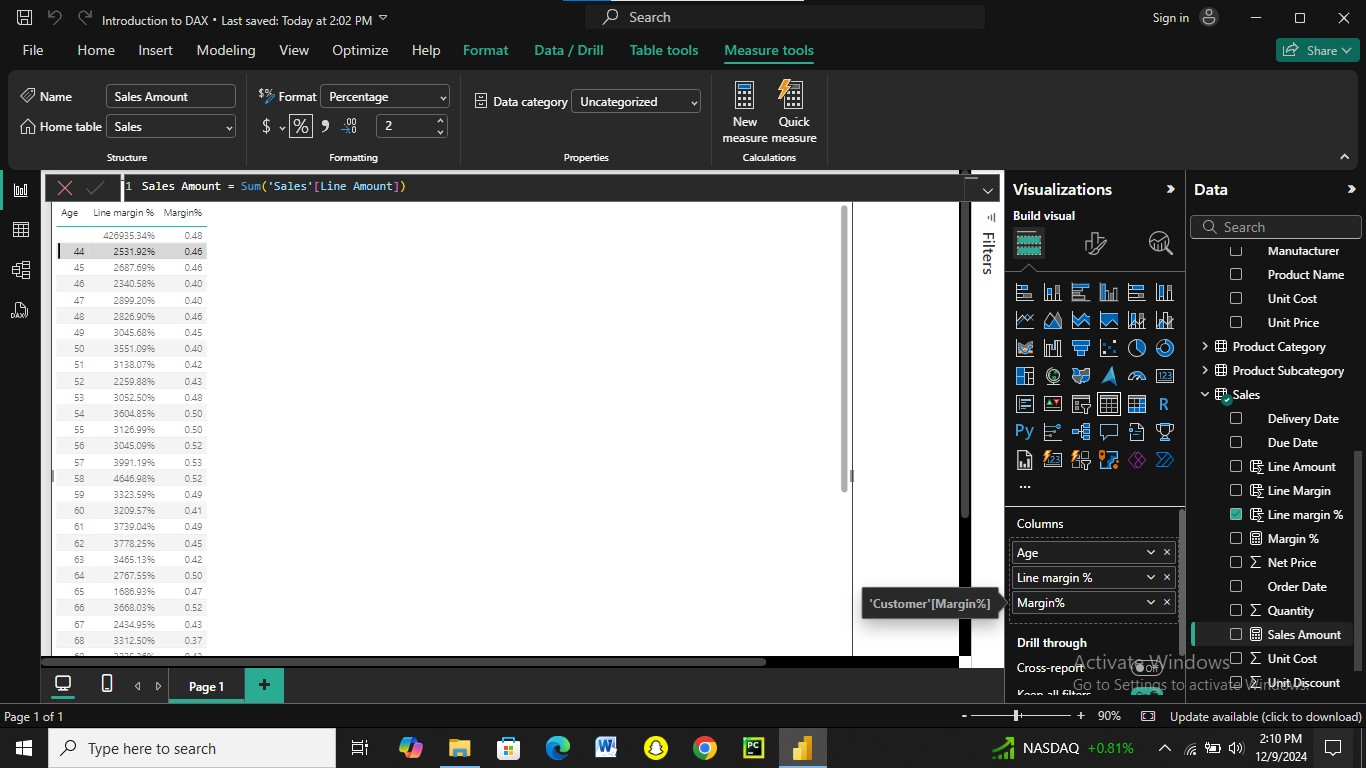

What the dashboard file says about the page in this screenshot:
{"tool":"powerbi","page":{"name":"Page 1","canvas":[1280,720],"ordinal":0},"visuals":[{"type":"tableEx","fields":{"Values":["Customer.Age","Sum(Sales.Line margin %)","Sales.Margin %"]},"box":[0,0,890.9,634.8],"z":0}]}

Visuals, with their boxes on the page's 1280x720 design canvas (x1, y1, x2, y2). These are canvas units, not pixel positions in the 1366x768 screenshot, which may show the page scaled, cropped or inside an application window:
tableEx - Customer.Age x Sum(Sales.Line margin %): box(0, 0, 891, 635)
